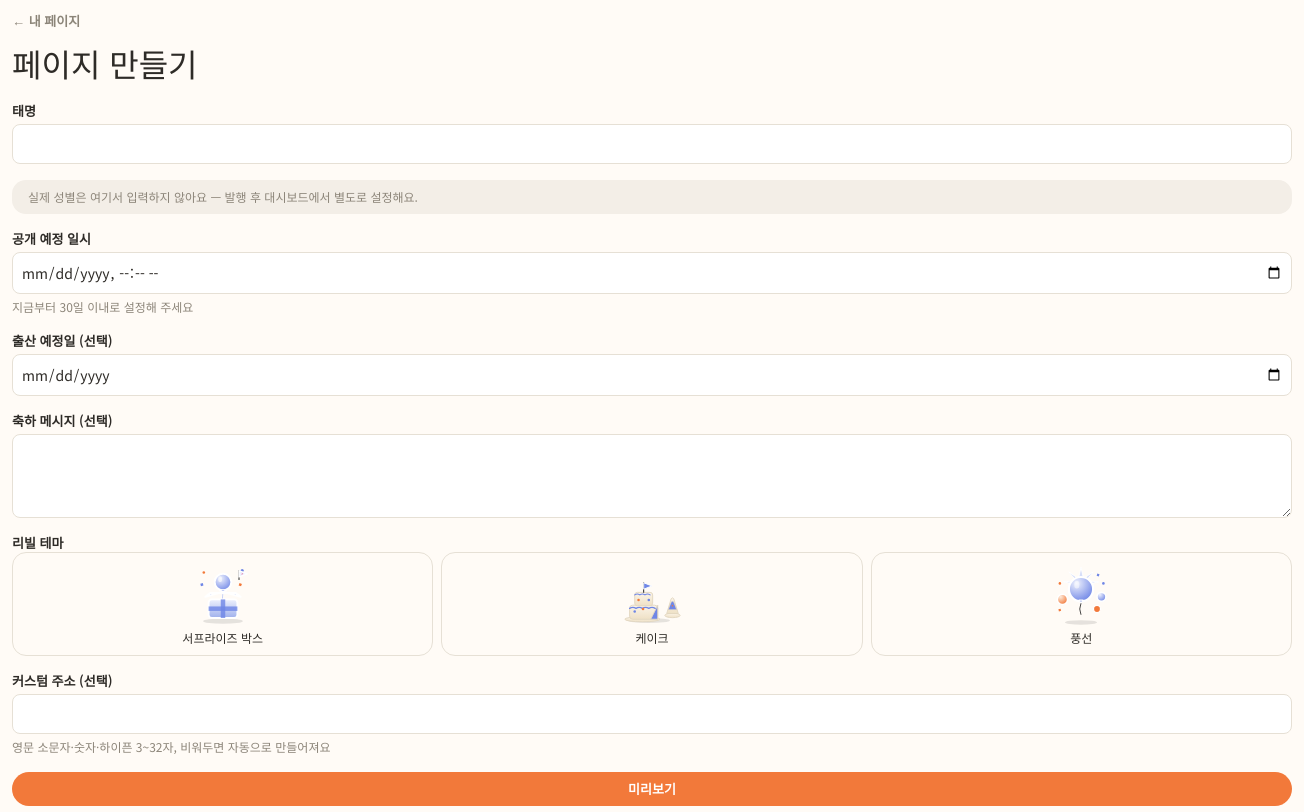
Test case: CreatePageFlow › checks a custom slug before advancing to preview, and proceeds when it is free
The width and height of the screenshot is (1304, 812).
Type "뽀튼이" into the field labelled "태명".
click(652, 144); type("뽀튼이")  # box [12,124,1292,164]
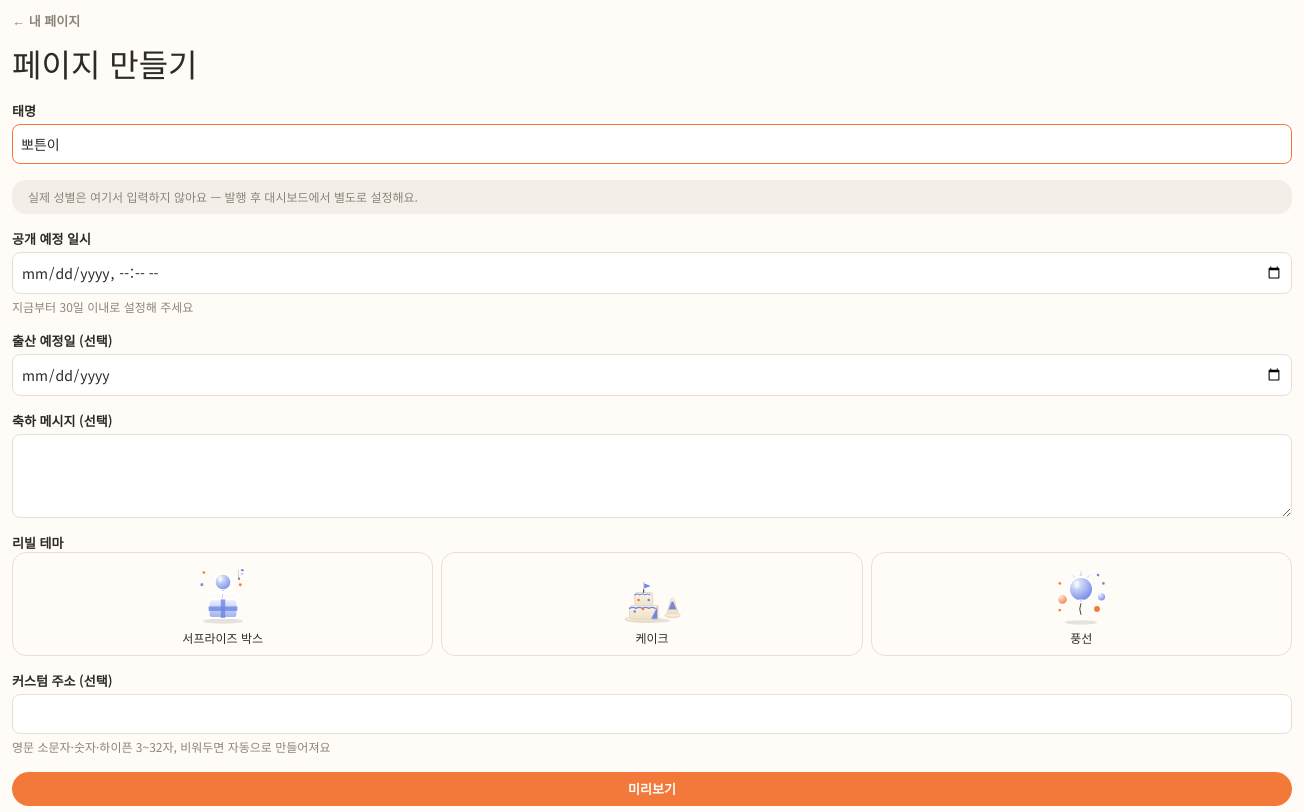
Type "2026-10-01T09:00" into the field labelled "공개 예정 일시".
click(652, 273); type("2026-10-01T09:00")  # box [12,252,1292,294]
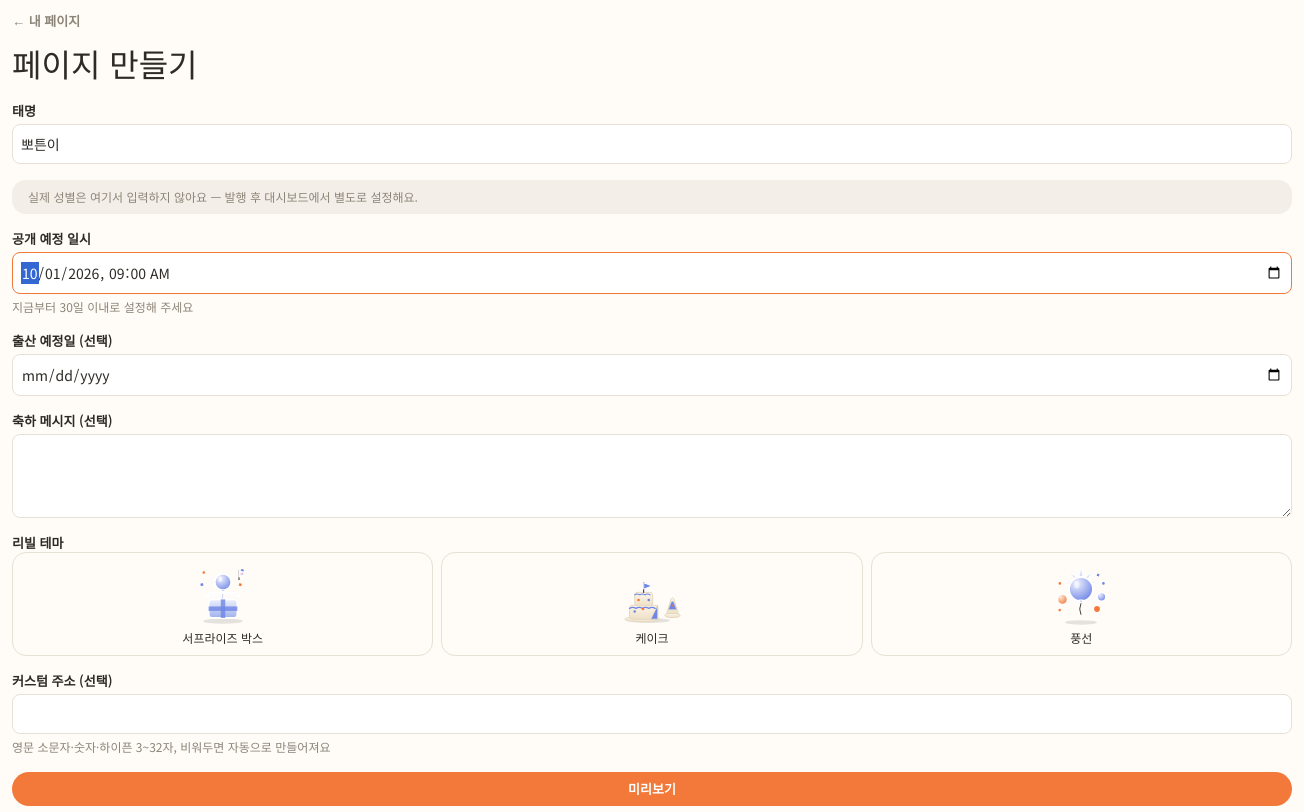
Click the radio button labelled "서프라이즈 박스".
click(223, 604)  # box [12,552,433,656]
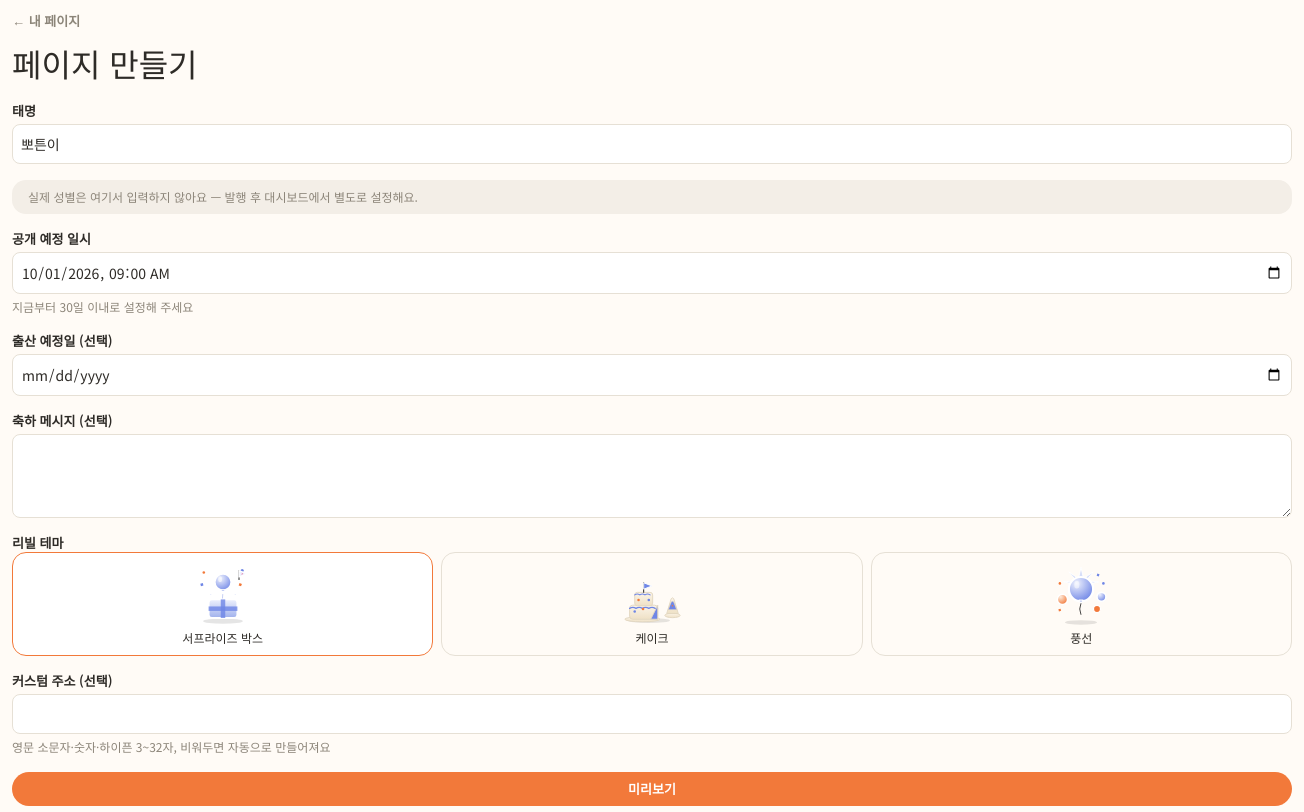
Type "our-baby" into the field labelled "커스텀 주소 (선택)".
click(652, 714); type("our-baby")  # box [12,694,1292,734]
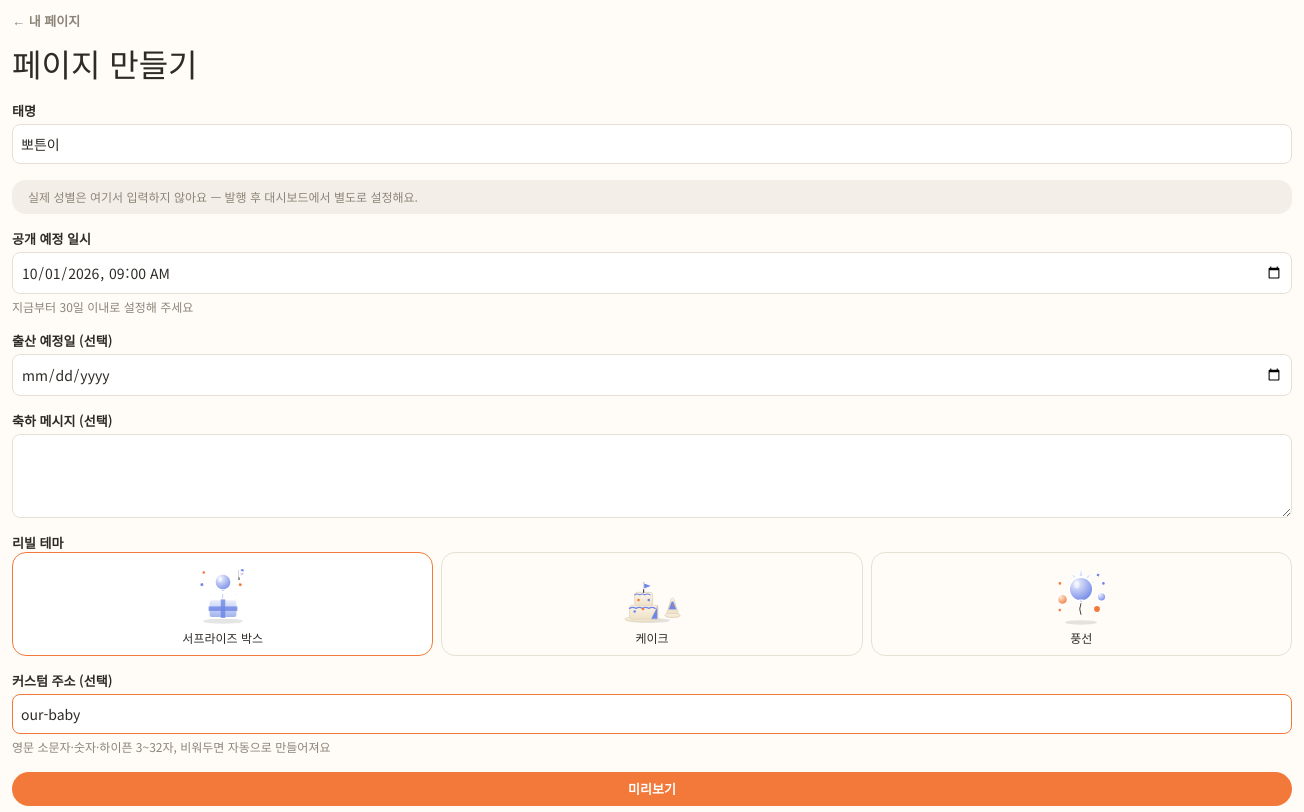
Click the button "미리보기".
click(652, 789)  # box [12,772,1292,806]
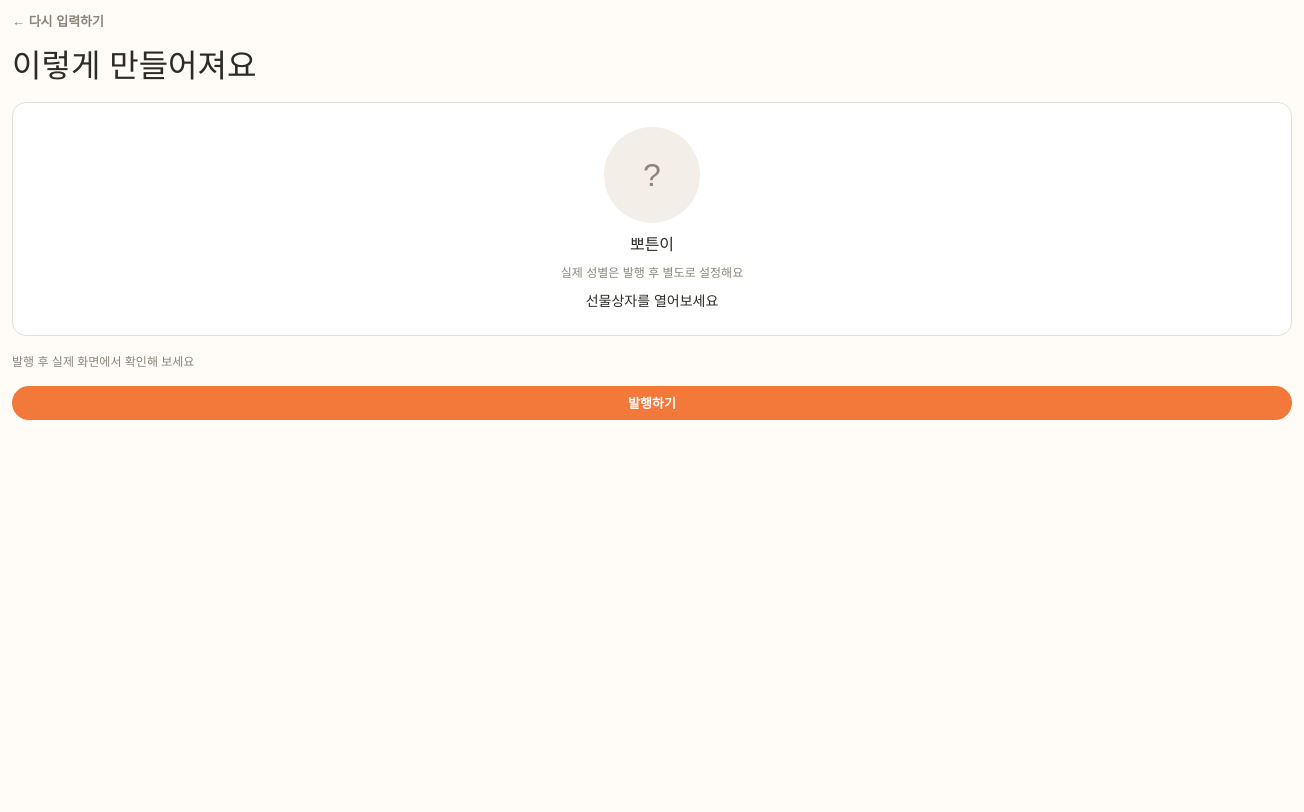
Now the heading "이렇게 만들어져요" is shown, box [12,48,256,84]
